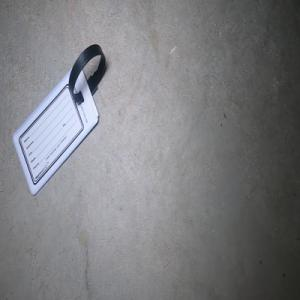LuggageTag: (11, 42, 106, 197)
